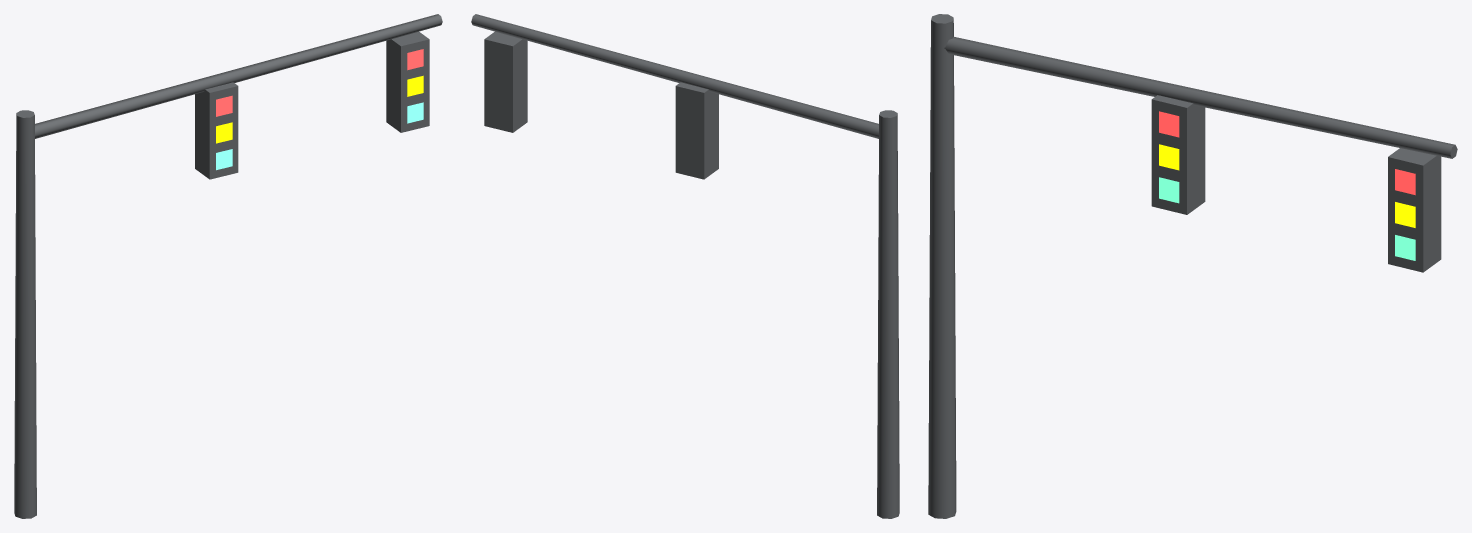
The model's file is traffic_light.glb.
The picture shows the model from 3 angles, left to right: view 1: azimuth 30°, elevation 25°; view 2: azimuth 150°, elevation 25°; view 3: azimuth 330°, elevation 25°; orthographic projection. The views are drawn at different scales.
Visible parts, largest first — view 1: TrafficLight; view 2: TrafficLight; view 3: TrafficLight.
Boxes of the visible parts, left/top/right/bottom form: TrafficLight: left=14, top=14, right=442, bottom=518; TrafficLight: left=471, top=14, right=899, bottom=518; TrafficLight: left=928, top=14, right=1457, bottom=518.
Size of the model in its own units: 6.66 by 6 by 0.405.
